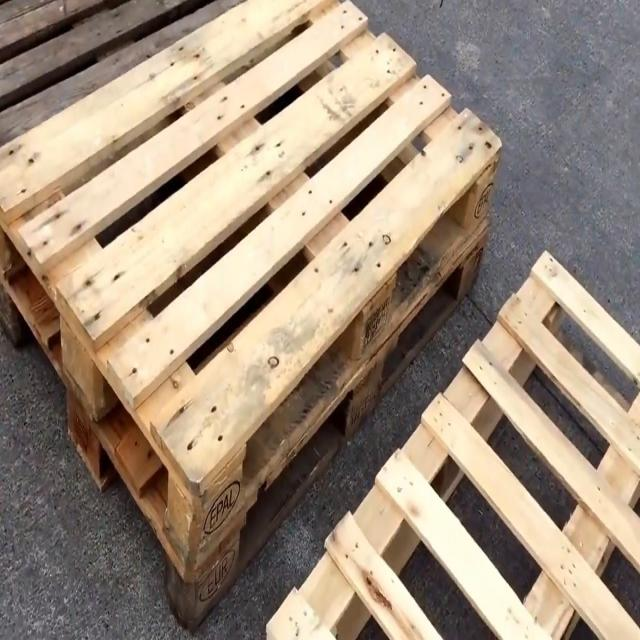Palette: (0, 0, 508, 632), (266, 246, 640, 640), (0, 0, 248, 174)
